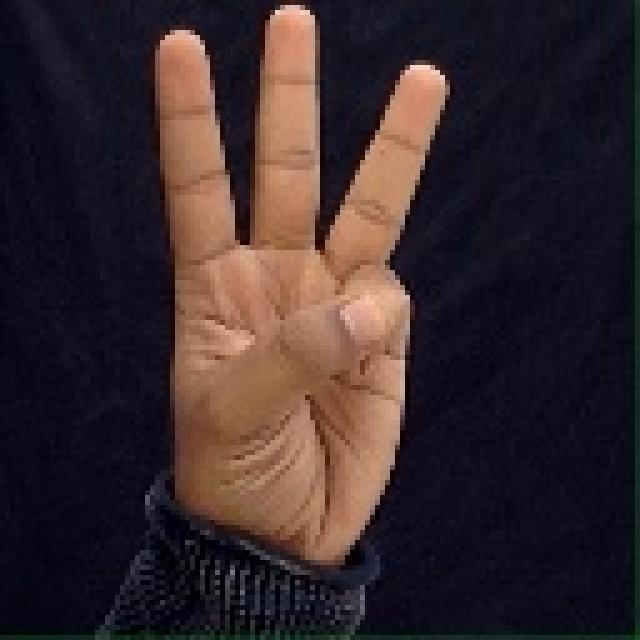Numeric-3: (145, 3, 454, 591)
